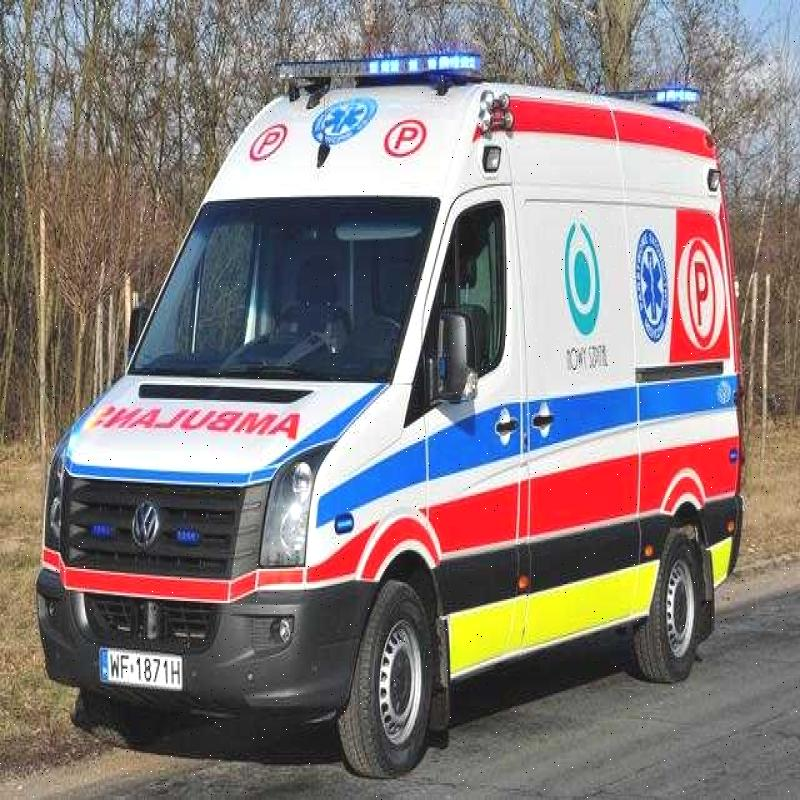AmbulanceSiren: (275, 52, 496, 83)
